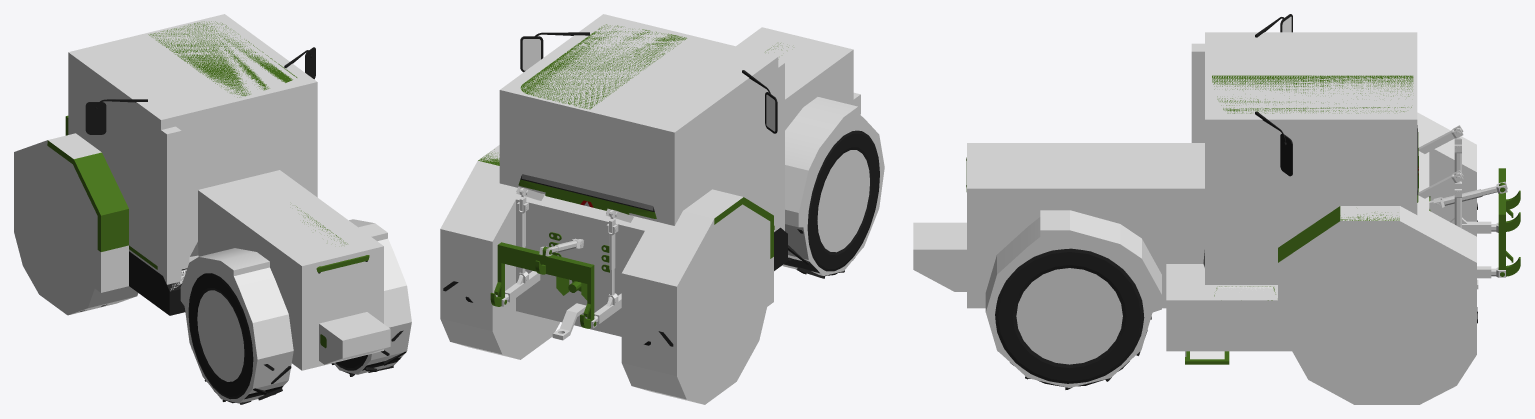
The model's file is TractorandCollider.FBX.
3 views of the same model, side by side, from view 1: azimuth 30°, elevation 25°; view 2: azimuth 150°, elevation 25°; view 3: azimuth 270°, elevation 25° (orthographic). The views are drawn at different scales.
Parts seen in each view (by area): view 1: Group_003, Group#3#1_001, Group#3#2_001, Group_001, Group_020, Group_050, Group_002, Group_006, Group_052; view 2: Group_003, Group#3#1_001, Group_001, Group#147_001, Group#147_002, Group#3#2_001, Group_006, Group_052, Group_050, Group_030, Group_010, Group_044 (+4 smaller); view 3: Group_003, Group_002, Group#3#1_001, Group_005, Group#147_001, Group_056, Group_052, Group#147_002.
Boxes of the visible parts, x1,y1,x2,y2 form: Group_003: (14,14,411,403); Group#3#1_001: (148,21,297,97); Group#3#2_001: (47,140,198,269); Group_001: (188,273,291,404); Group_020: (129,251,343,315); Group_050: (85,99,147,134); Group_002: (331,330,406,376); Group_006: (180,257,263,302); Group_052: (284,47,315,79); Group_003: (440,14,884,404); Group#3#1_001: (478,24,686,205); Group_001: (784,130,879,278); Group#147_001: (490,243,593,327); Group#147_002: (490,242,596,328); Group#3#2_001: (587,190,774,258); Group_006: (785,107,858,227); Group_052: (520,32,589,72); Group_050: (742,70,777,133); Group_030: (606,223,618,305); Group_010: (552,303,586,340); Group_044: (501,271,540,306); Group_003: (913,32,1476,404); Group_002: (995,248,1151,389); Group#3#1_001: (1203,75,1418,300); Group_005: (1040,210,1161,294); Group#147_001: (1498,168,1520,276); Group_056: (1185,351,1229,364); Group_052: (1255,111,1292,176); Group#147_002: (1498,168,1520,267).
Bounding box in the file's own units: 124 × 124 × 248.
